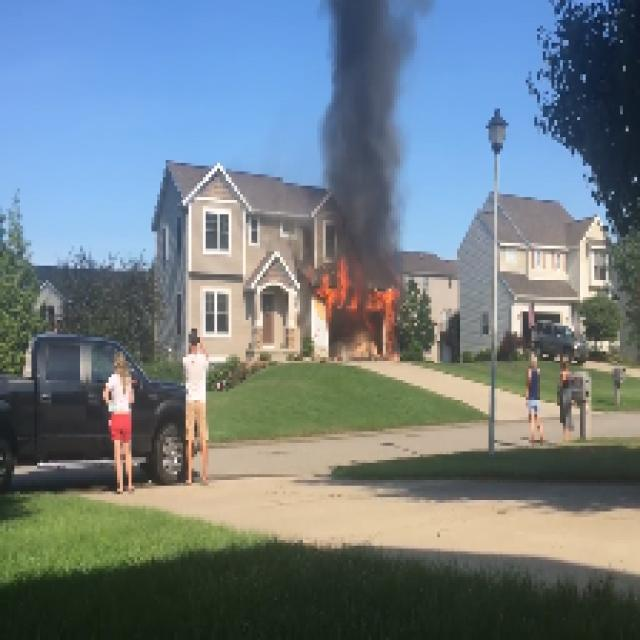Fire: (317, 260, 357, 309), (372, 283, 399, 326)
Smoke: (318, 2, 426, 248)
